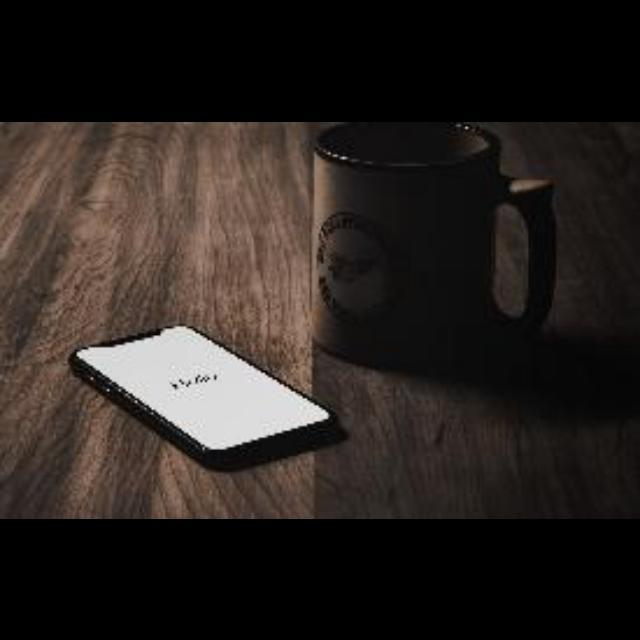Phone: (72, 325, 338, 457)
